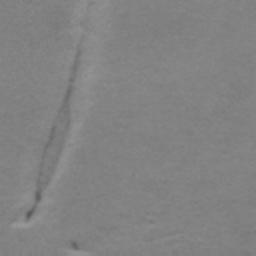Finishing roll printing: (22, 33, 88, 221)
